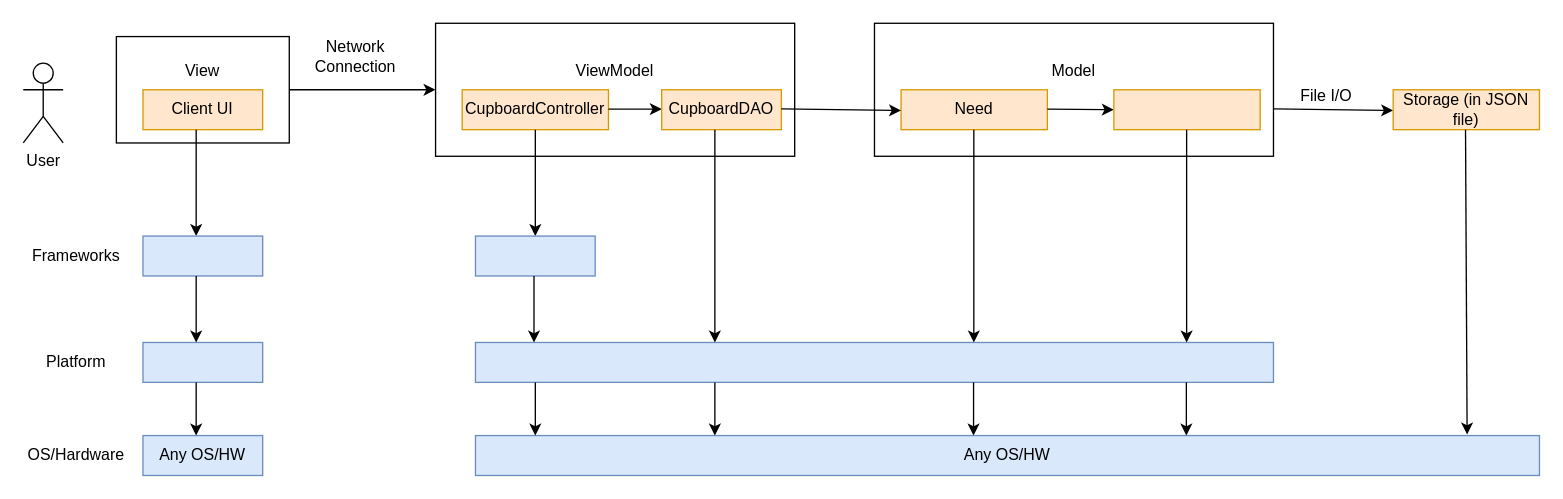
The diagram is 1563 pixels wide and 499 high, and some of its shapes have lost their labels. The centre of each missing label's shape, as x and y in pixels:
Angular & TypeScript: pixel 202 255
Any Browser: pixel 202 361
CupboardFileDAO: pixel 1186 109
Java: pixel 873 361
Spring: pixel 534 255
